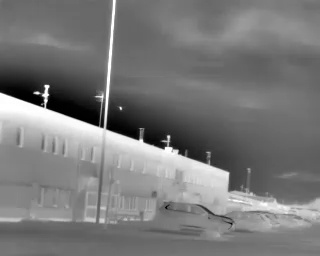HELICOPTER: (116, 104, 125, 113)
